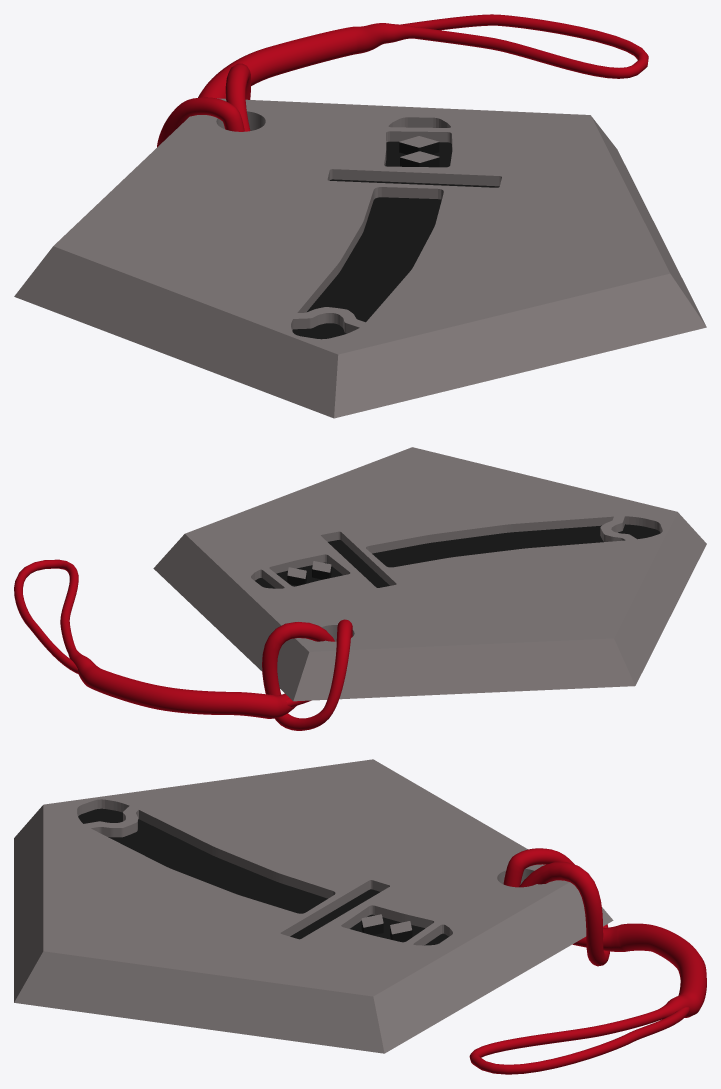
3 views of the same model, one above another, from view 1: azimuth 30°, elevation 25°; view 2: azimuth 150°, elevation 25°; view 3: azimuth 270°, elevation 25° (orthographic). The views are drawn at different scales.
Parts seen in each view (by area): view 1: 円, ベジエカーブ; view 2: 円, ベジエカーブ; view 3: 円, ベジエカーブ.
Part boxes in pixels (x1=…): 円: x1=14, y1=98, x2=706, y2=418; ベジエカーブ: x1=157, y1=14, x2=648, y2=147; 円: x1=153, y1=447, x2=706, y2=701; ベジエカーブ: x1=14, y1=559, x2=352, y2=730; 円: x1=14, y1=759, x2=613, y2=1053; ベジエカーブ: x1=469, y1=848, x2=706, y2=1074.
Size of the model in its own units: 1.22 by 0.1938 by 1.16.
